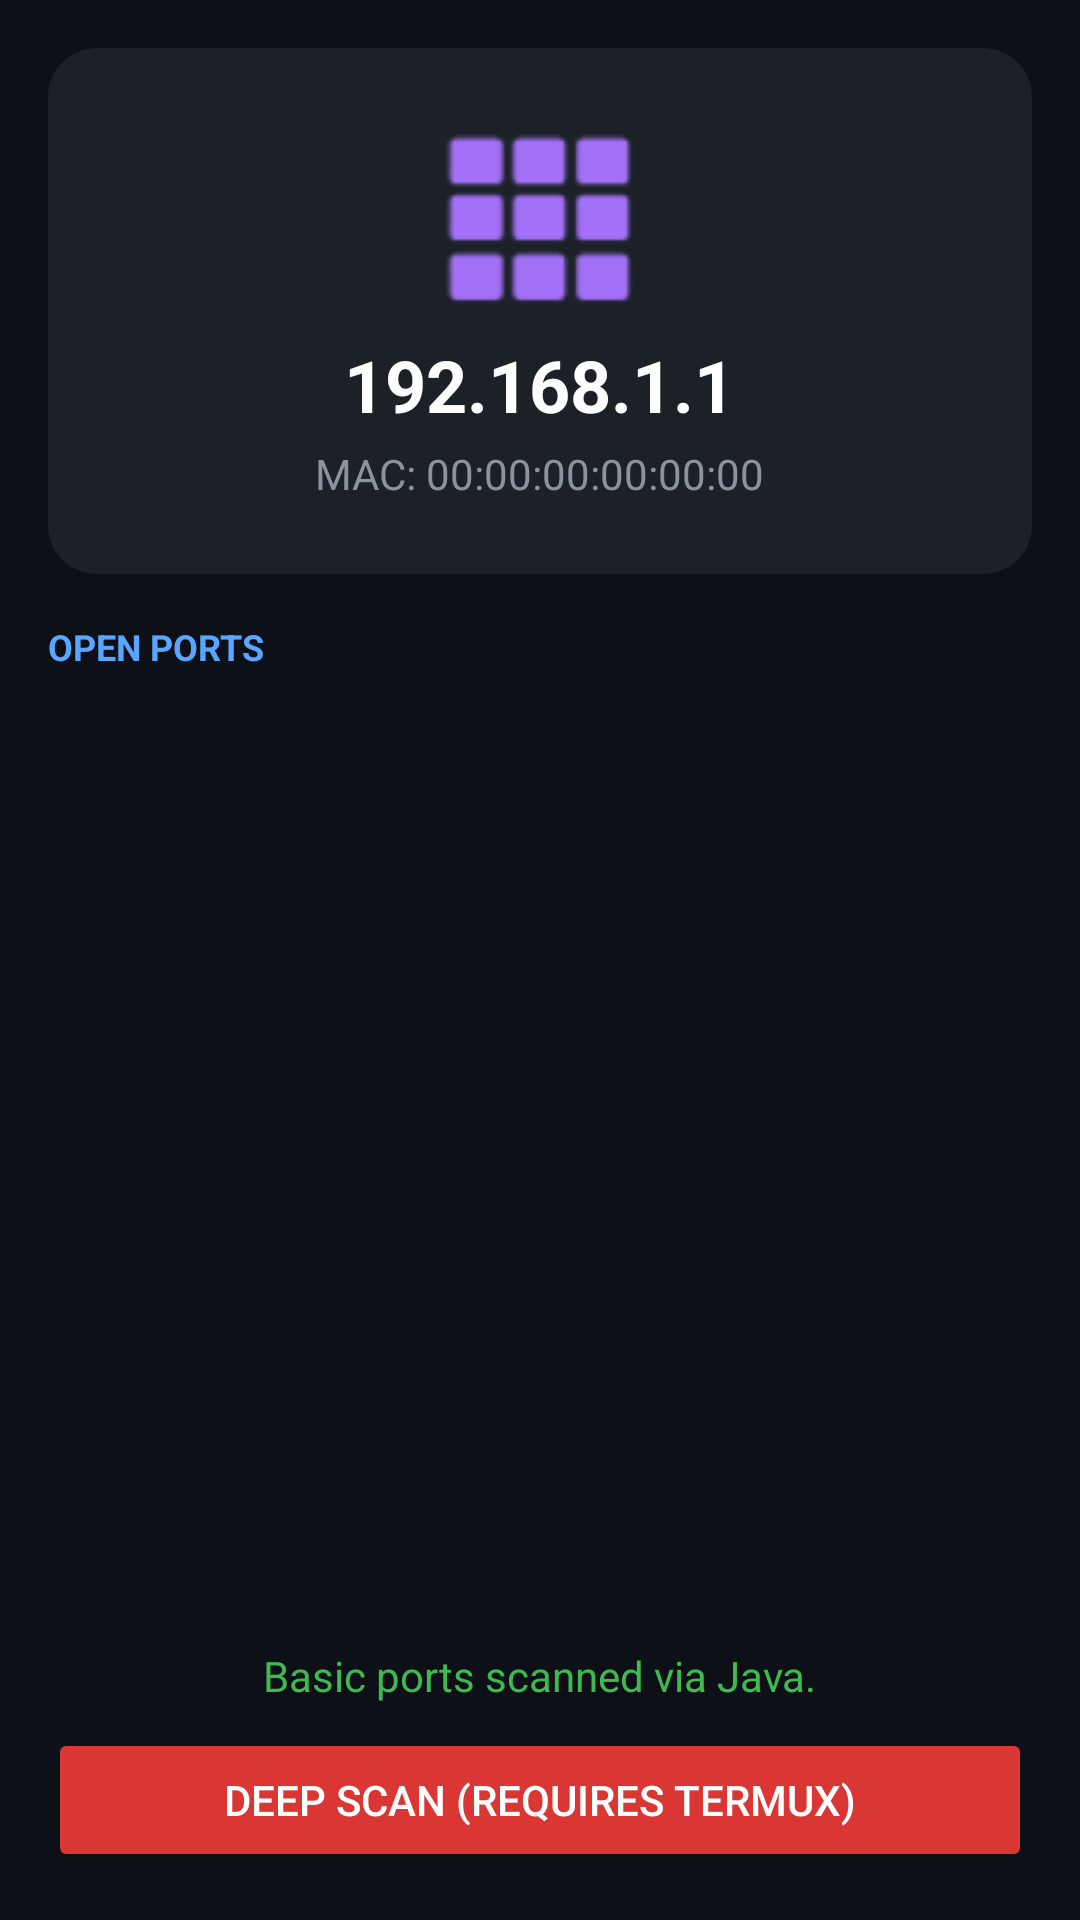

Locate icon controls on the screen. Image size 1080*1920, boxes as (x1,y1,x2,y2).
dialer: (447,135,631,301)
